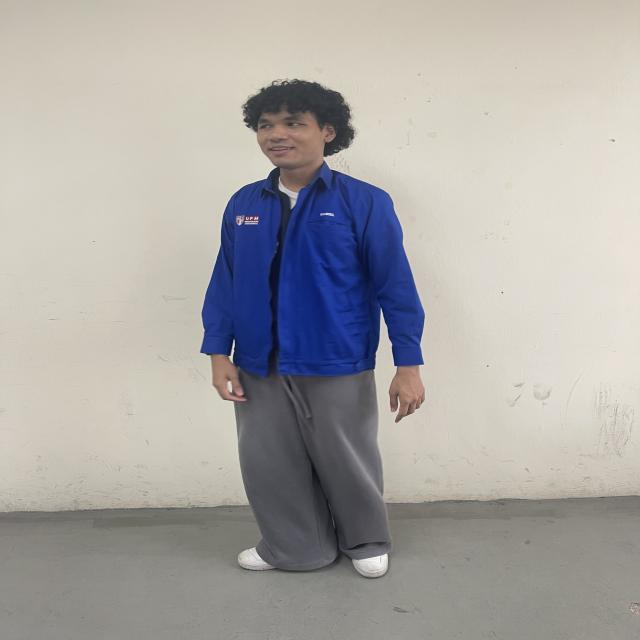person_with_labcoat: (201, 80, 425, 578)
